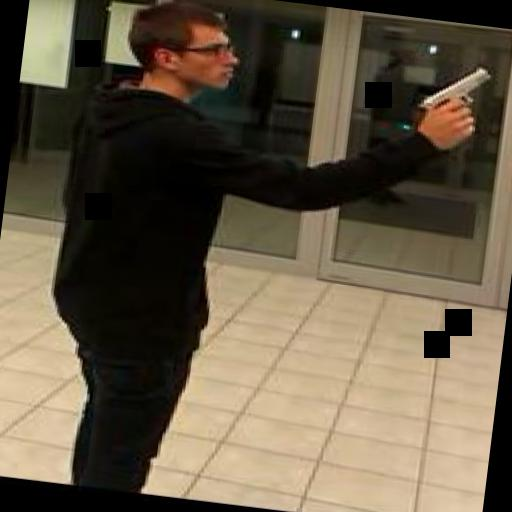Handgun: (412, 58, 489, 136)
